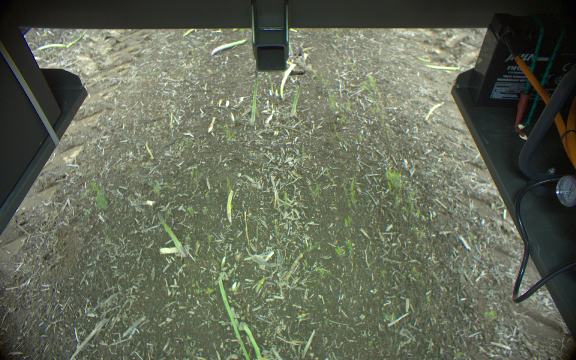aspa: (217, 278, 249, 360), (154, 212, 187, 260), (242, 324, 262, 360), (289, 77, 305, 120), (249, 70, 258, 123), (226, 188, 235, 223)
